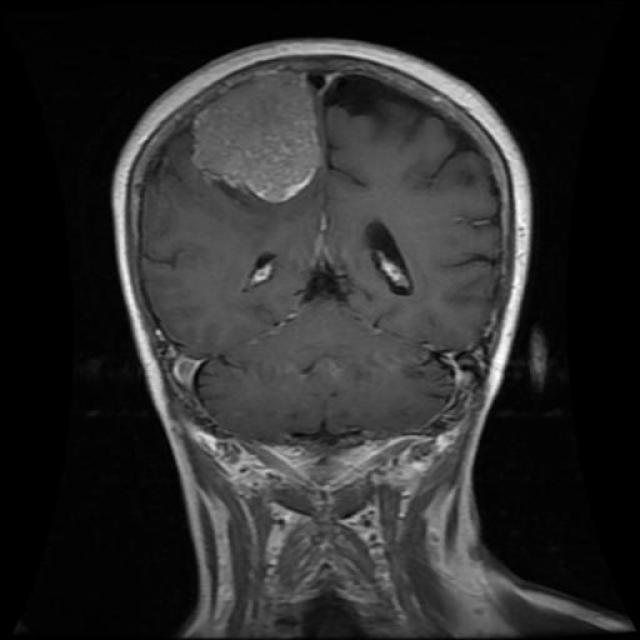meningioma: (194, 66, 320, 196)
